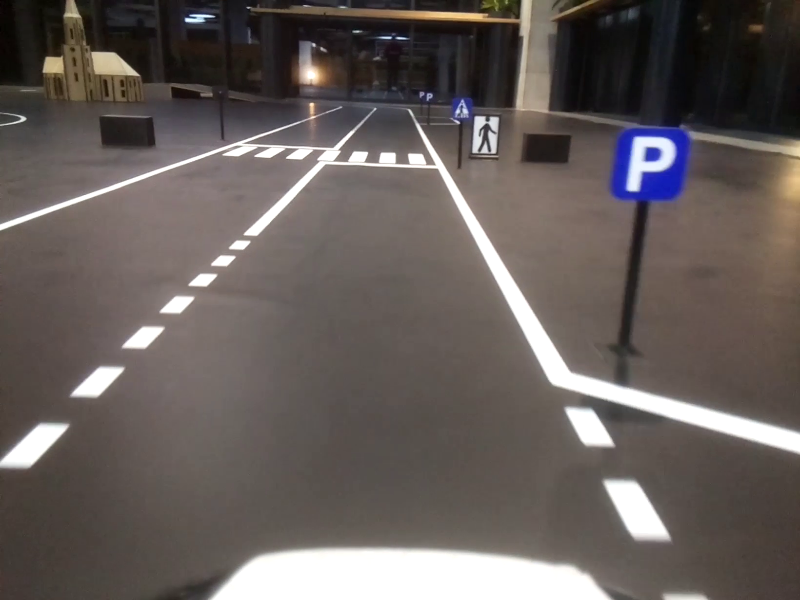park: (616, 131, 686, 199)
